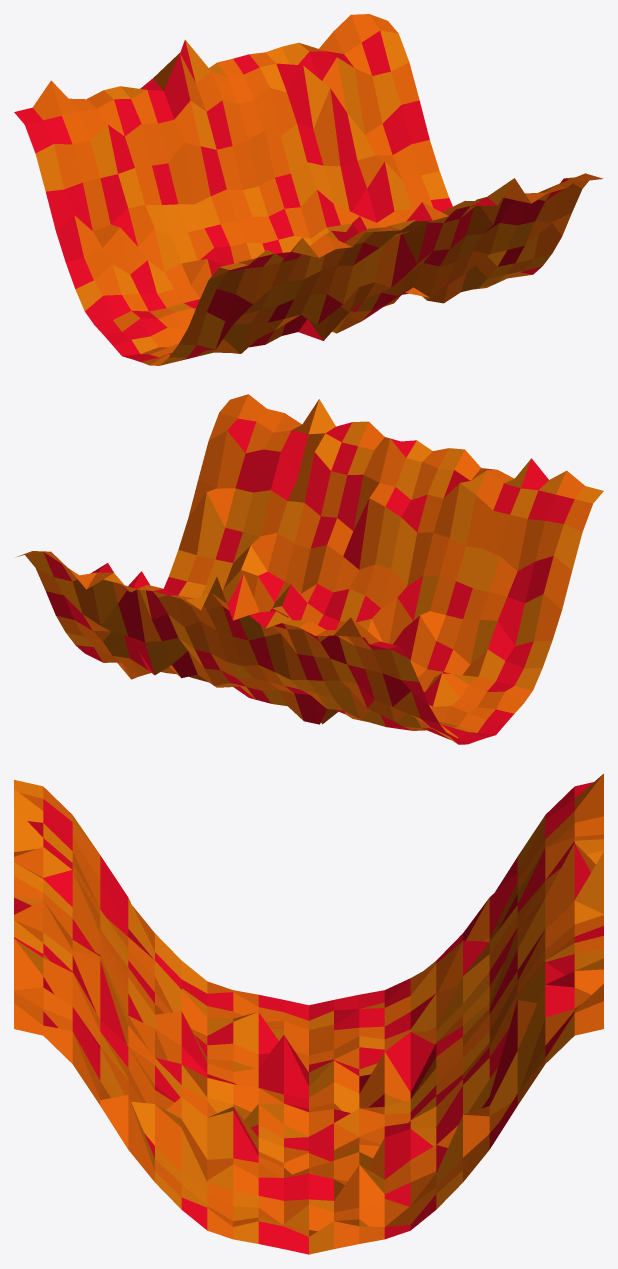
Rendered from canyon2.fbx.
3 views of the same model, one above another, from view 1: azimuth 30°, elevation 25°; view 2: azimuth 150°, elevation 25°; view 3: azimuth 270°, elevation 25° (orthographic). The views are drawn at different scales.
Visible parts, largest first — view 1: Plane; view 2: Plane; view 3: Plane.
Part boxes in pixels (x1,y1,x2,y2): Plane: (14, 14, 603, 365); Plane: (17, 394, 603, 744); Plane: (14, 773, 603, 1254).
Bounding box in the file's own units: 1000 × 536 × 1000.
